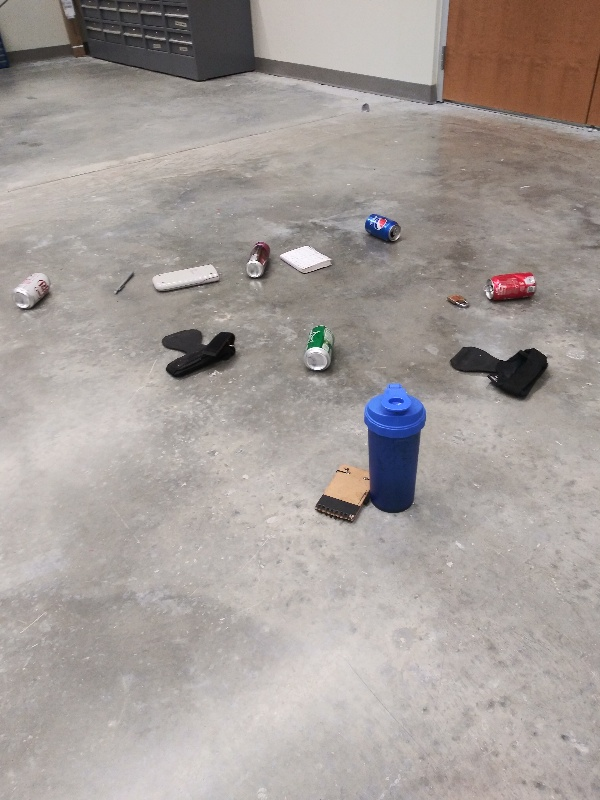can: (6, 269, 56, 315), (483, 270, 544, 306), (302, 321, 336, 373), (242, 236, 274, 284), (360, 214, 406, 245)
